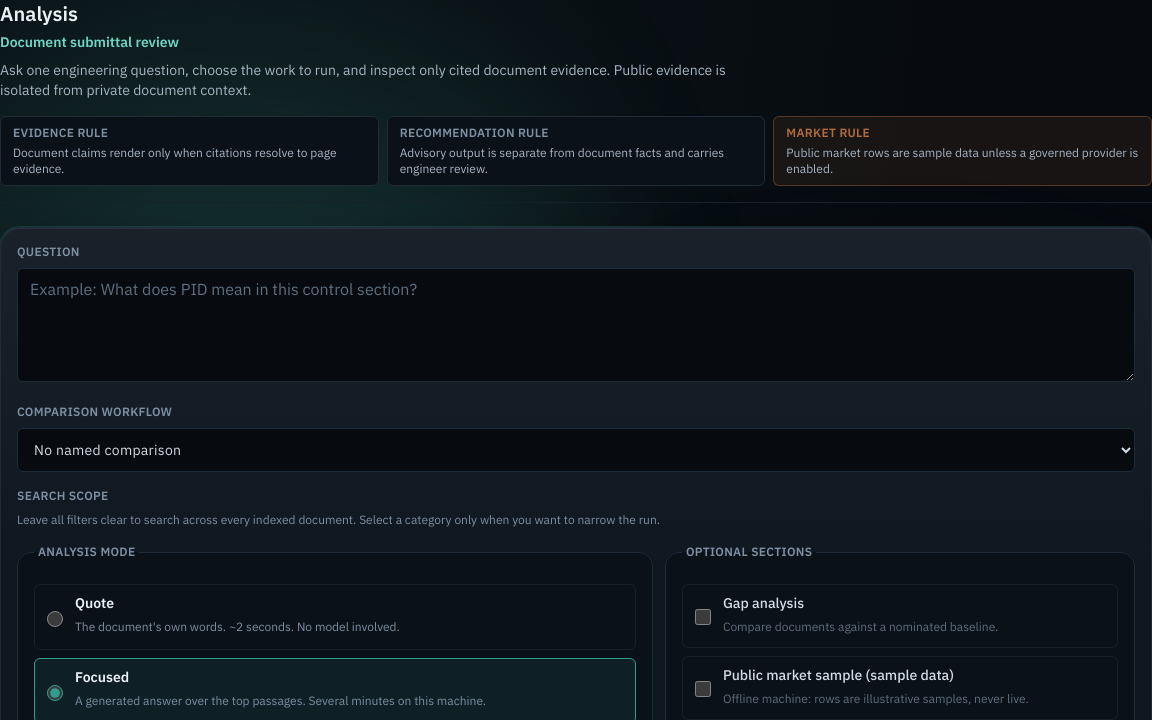
Test case: Quote mode does not switch Gap analysis on › leaves the Gap analysis checkbox unchecked after Quote is chosen
Click the radio button labelled "Quote". click: click(55, 619)
box: [47,597,63,641]
(page scrolled)
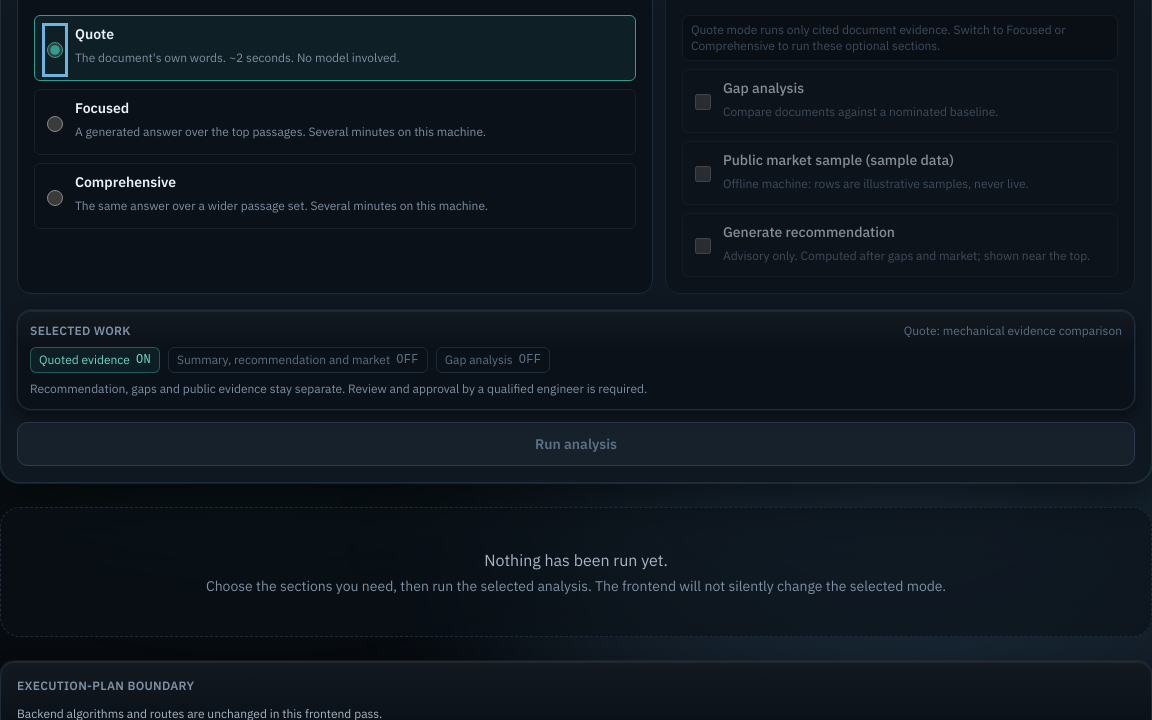
Expected: the checkbox labelled "Gap analysis Compare documents against a nominated baseline." is not checked, [695,80,711,124]
Result: the text "Quoted evidence" is shown at [39,352,130,367]
